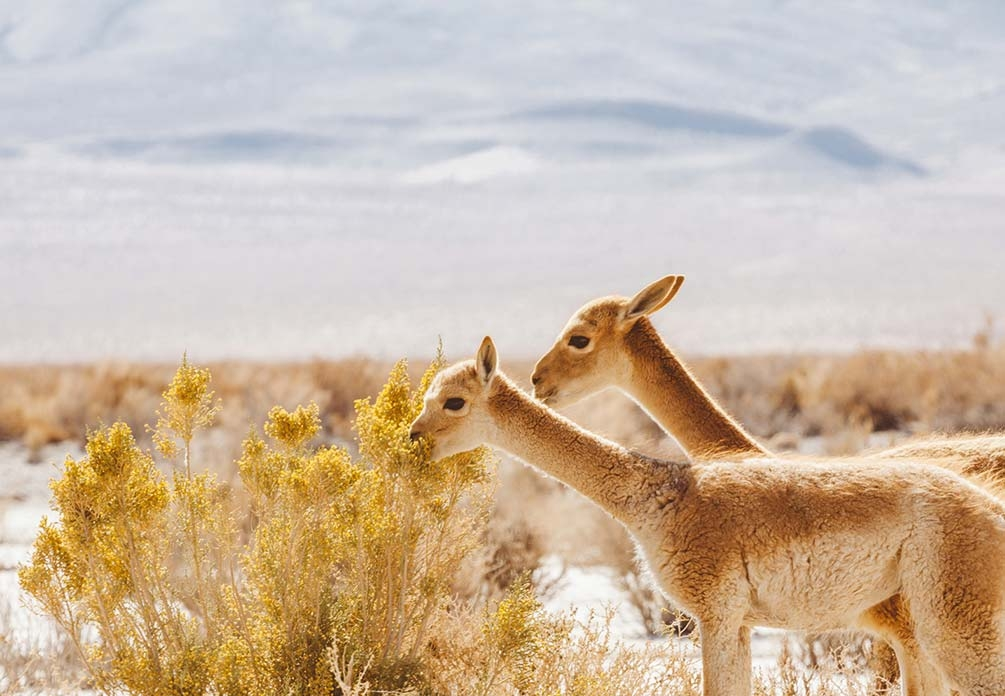eye: (444, 395, 476, 417), (571, 330, 597, 356)
mouth: (532, 383, 567, 412)
